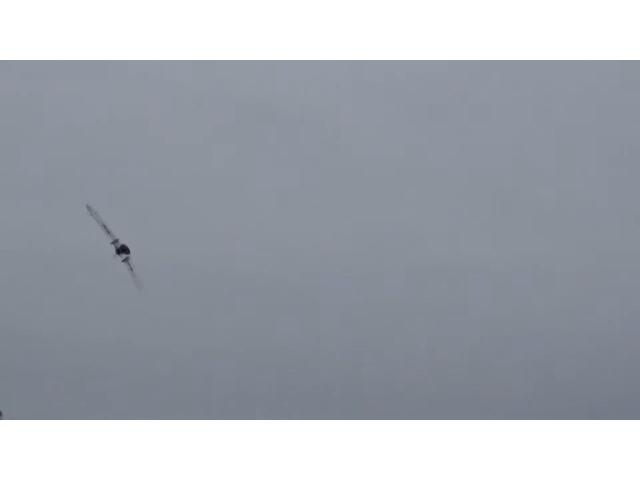Anti-Drone: (86, 206, 144, 290)
